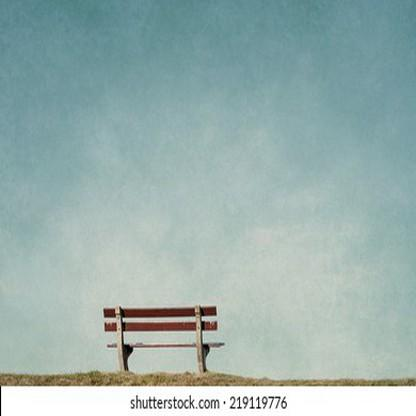obstacle: (94, 296, 233, 378)
